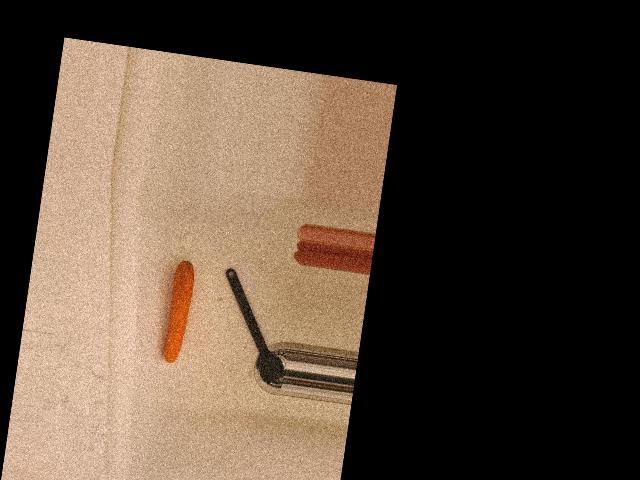carrot: (158, 257, 200, 364)
